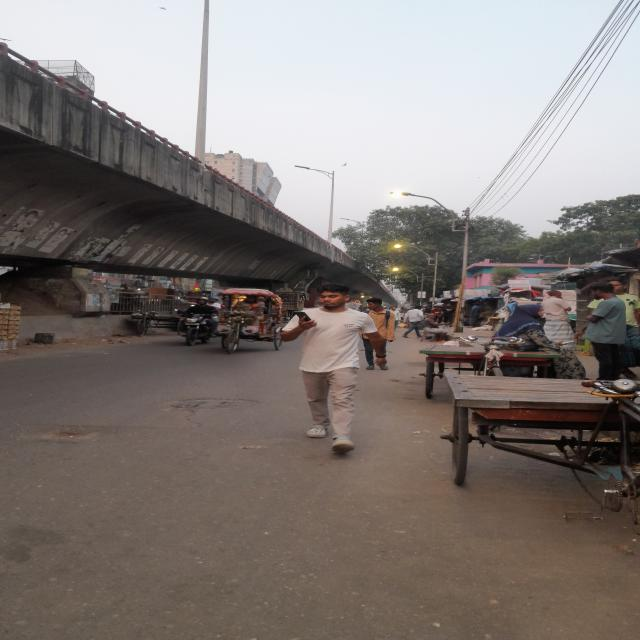person: (282, 284, 390, 454), (361, 298, 395, 370)
